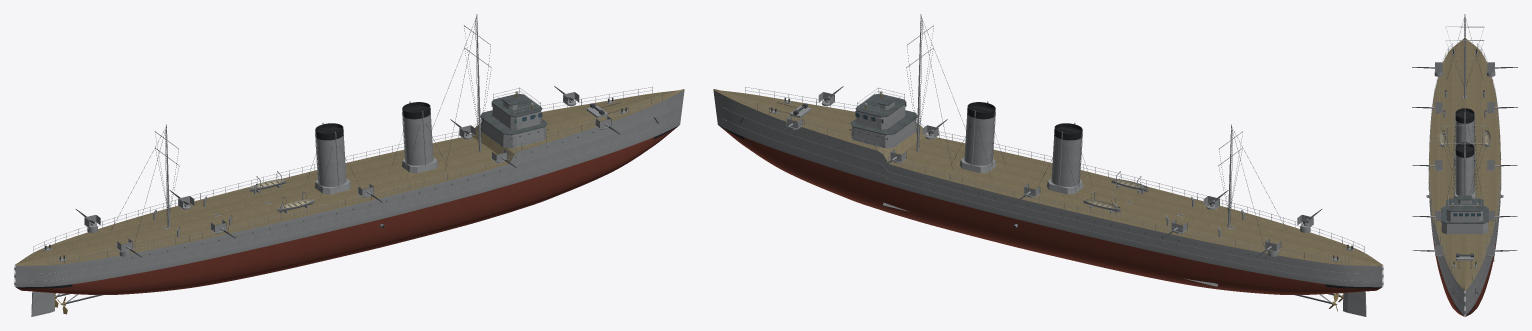
File: gazelle_cl.glb
3 renders of one model, left to right at view 1: azimuth 30°, elevation 25°; view 2: azimuth 150°, elevation 25°; view 3: azimuth 270°, elevation 25°, orthographic. The views are drawn at different scales.
Visible parts, largest first — view 1: Gazelle class; view 2: Gazelle class; view 3: Gazelle class.
Boxes of the visible parts, <box> form: Gazelle class: <box>14,14,684,316</box>; Gazelle class: <box>713,14,1383,316</box>; Gazelle class: <box>1412,14,1517,316</box>.
Size of the model in its own units: 105 by 29.53 by 17.84.
9 materials, 8 textured.
